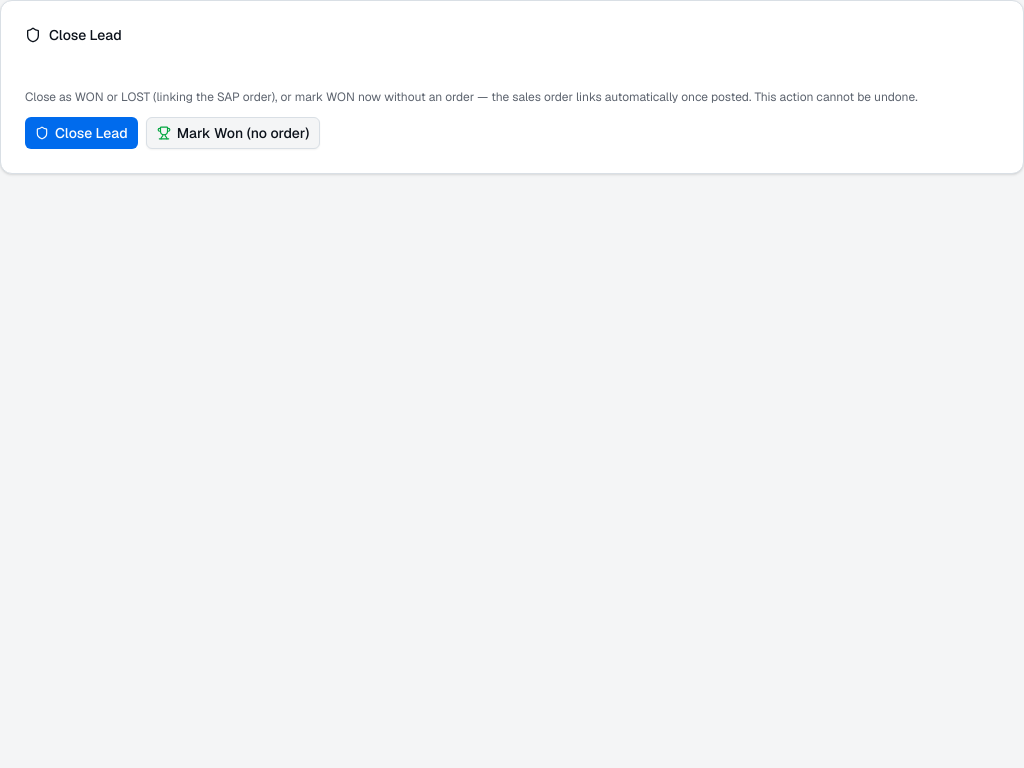
Test: <ClosureCard> › pre-selects the assigned salesperson and enables Mark Won
The width and height of the screenshot is (1024, 768).
Click the button "Mark Won (no order)" at (233, 133), box [146, 117, 320, 149]
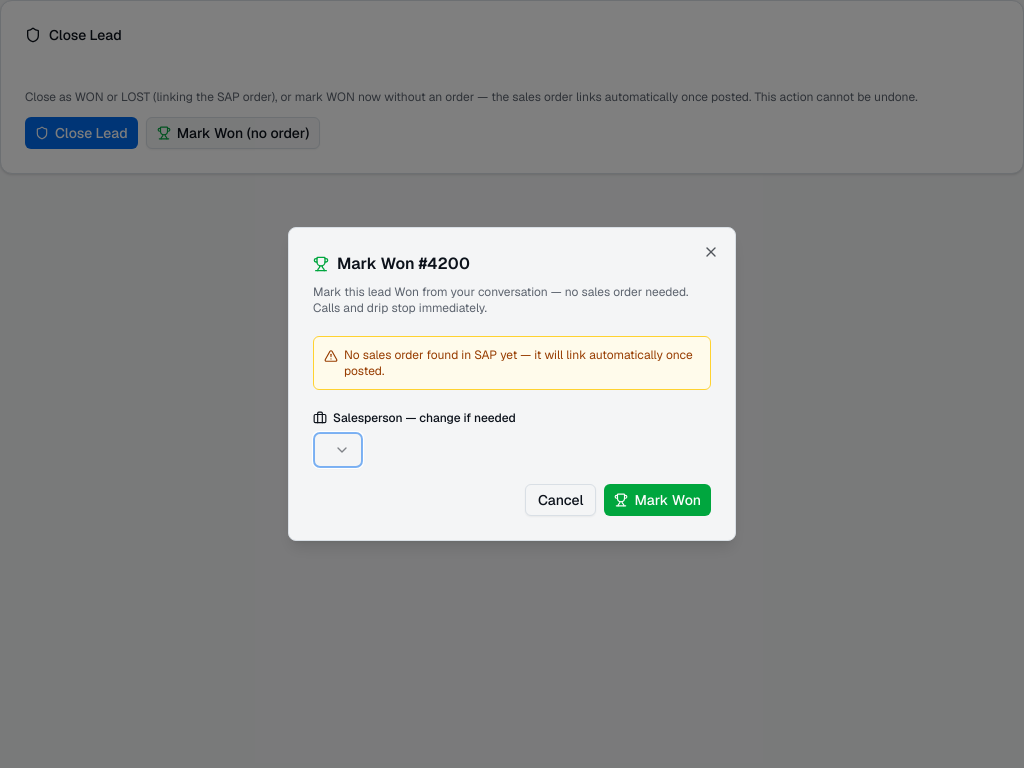
Check: the heading "Mark Won #4200" is shown, box [313, 253, 470, 274]
Check: the text "Salesperson — change if needed" is shown, box [313, 410, 516, 426]
Check: the button "Mark Won" is enabled, box [604, 484, 711, 516]
